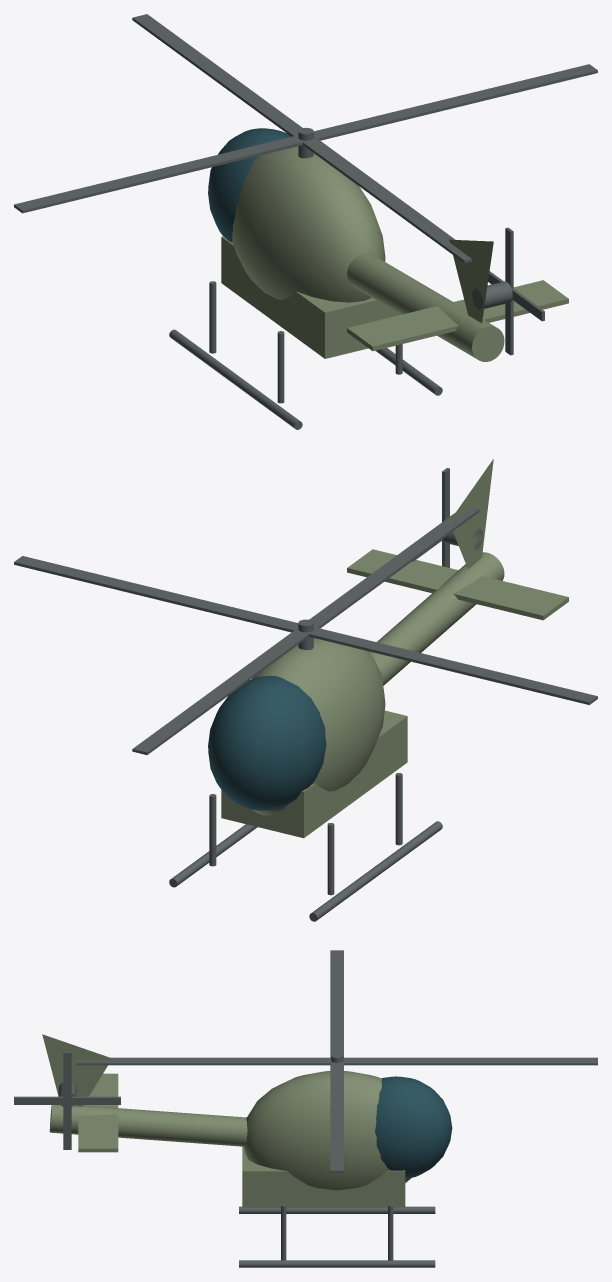
3 renders of one model, top to bottom at view 1: azimuth 30°, elevation 25°; view 2: azimuth 150°, elevation 25°; view 3: azimuth 270°, elevation 25°, orthographic. The views are drawn at different scales.
Visible parts, largest first — view 1: Hull_MVP olive paint, MainRotor_MVP exposed metal, Tail_MVP olive paint, RunningGear_MVP exposed metal, Hull_MVP optical glass, Tail_MVP exposed metal; view 2: Hull_MVP olive paint, MainRotor_MVP exposed metal, Hull_MVP optical glass, Tail_MVP olive paint, RunningGear_MVP exposed metal, Tail_MVP exposed metal; view 3: Hull_MVP olive paint, Tail_MVP olive paint, MainRotor_MVP exposed metal, Hull_MVP optical glass, RunningGear_MVP exposed metal, Tail_MVP exposed metal.
Boxes of the visible parts, left/top/right/bottom form: Hull_MVP olive paint: left=221, top=146, right=400, bottom=358; MainRotor_MVP exposed metal: left=14, top=14, right=597, bottom=263; Tail_MVP olive paint: left=347, top=239, right=568, bottom=361; RunningGear_MVP exposed metal: left=169, top=281, right=442, bottom=429; Hull_MVP optical glass: left=208, top=128, right=291, bottom=242; Tail_MVP exposed metal: left=472, top=227, right=544, bottom=355; Hull_MVP olive paint: left=221, top=638, right=407, bottom=838; MainRotor_MVP exposed metal: left=14, top=507, right=597, bottom=754; Hull_MVP optical glass: left=208, top=675, right=326, bottom=810; Tail_MVP olive paint: left=347, top=459, right=568, bottom=685; RunningGear_MVP exposed metal: left=169, top=773, right=442, bottom=921; Tail_MVP exposed metal: left=412, top=468, right=483, bottom=567; Hull_MVP olive paint: left=242, top=1071, right=411, bottom=1207; Tail_MVP olive paint: left=42, top=1034, right=247, bottom=1152; MainRotor_MVP exposed metal: left=76, top=950, right=597, bottom=1172; Hull_MVP optical glass: left=375, top=1076, right=452, bottom=1178; RunningGear_MVP exposed metal: left=239, top=1204, right=435, bottom=1267; Tail_MVP exposed metal: left=14, top=1052, right=120, bottom=1149.
Bounding box in the file's own units: 7.8 × 3.4 × 8.73.
